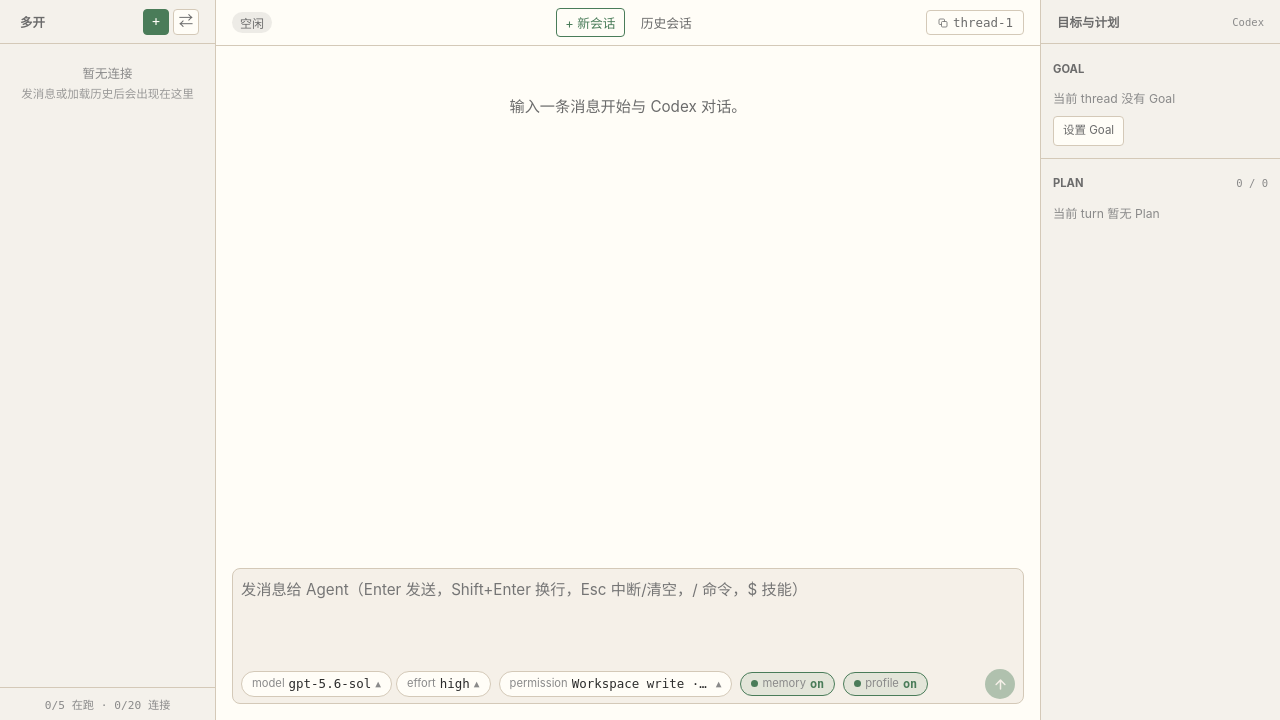
SessionView › shows why an old history row cannot be resumed
The width and height of the screenshot is (1280, 720).
Step 1. Click the button "历史会话" → coordinates (666, 22), box [633, 8, 700, 36]
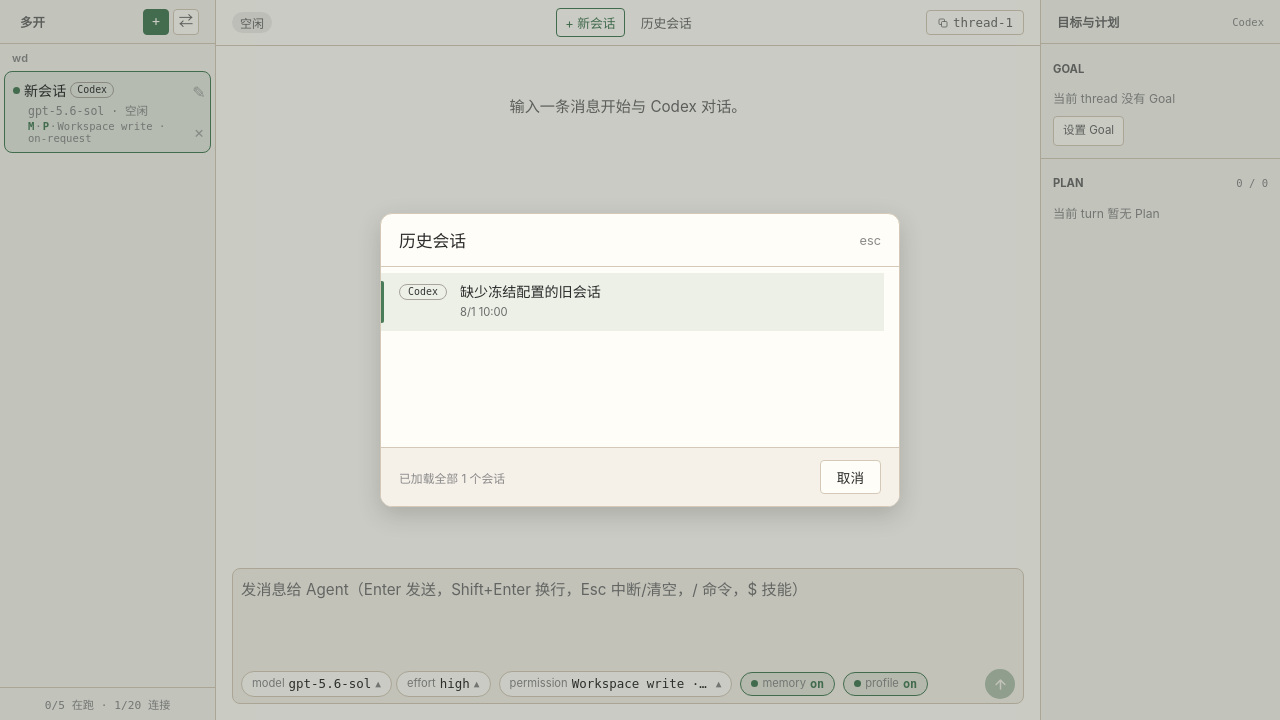
Step 2. Click the option "Codex 缺少冻结配置的旧会话 8/1 10:00" → coordinates (423, 292), box [381, 273, 884, 331]
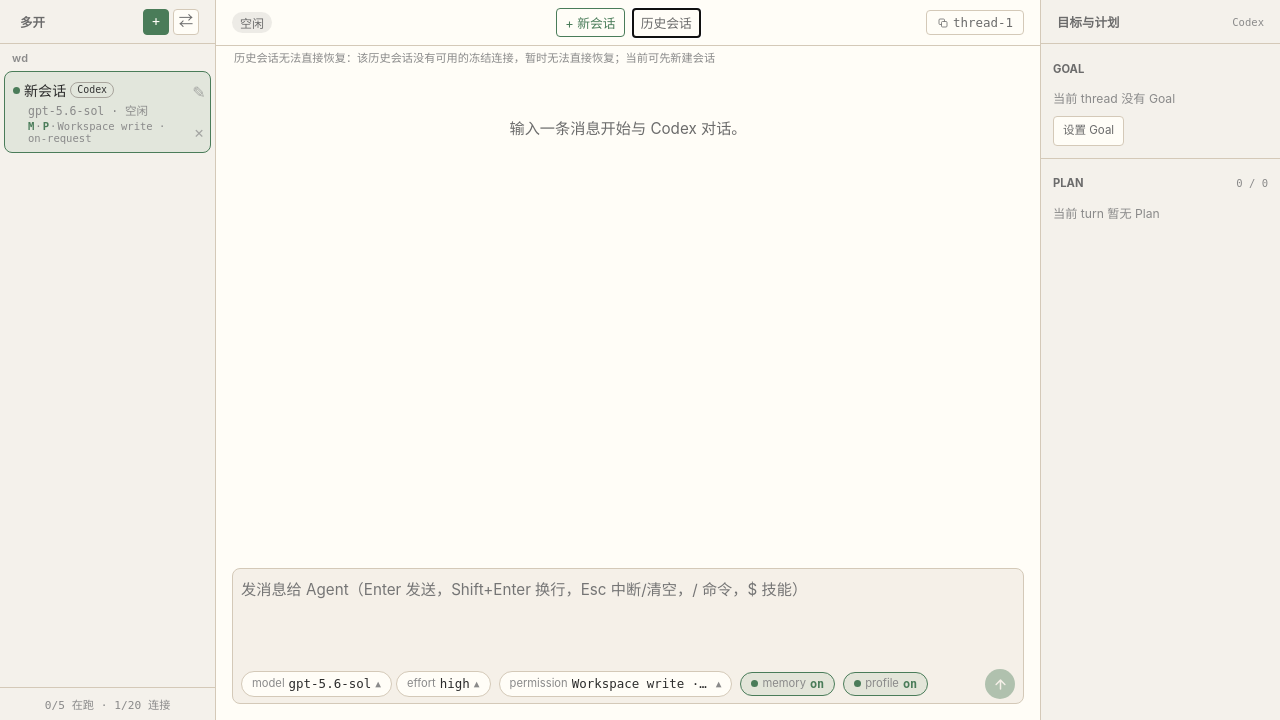
expect the text "历史会话无法直接恢复：该历史会话没有可用的冻结连接，暂时无法直接恢复；当前可先新建会话" is shown: met, box [234, 51, 715, 65]
